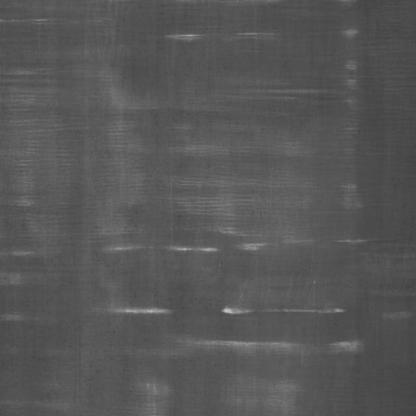waist_folding: (42, 4, 373, 394)
